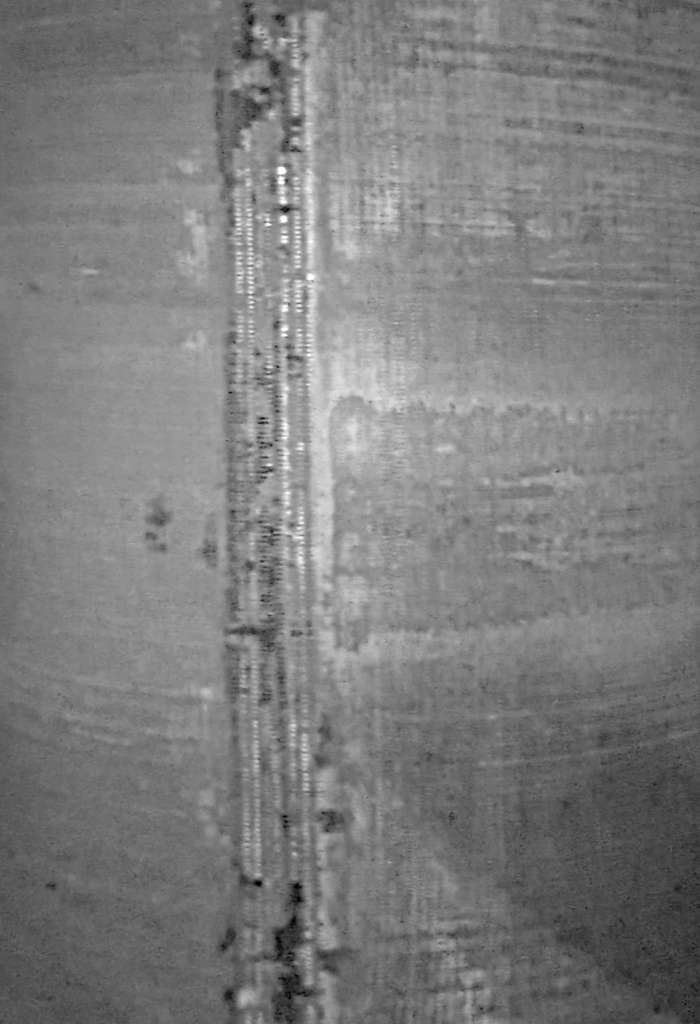splice: (214, 1, 335, 1024)
